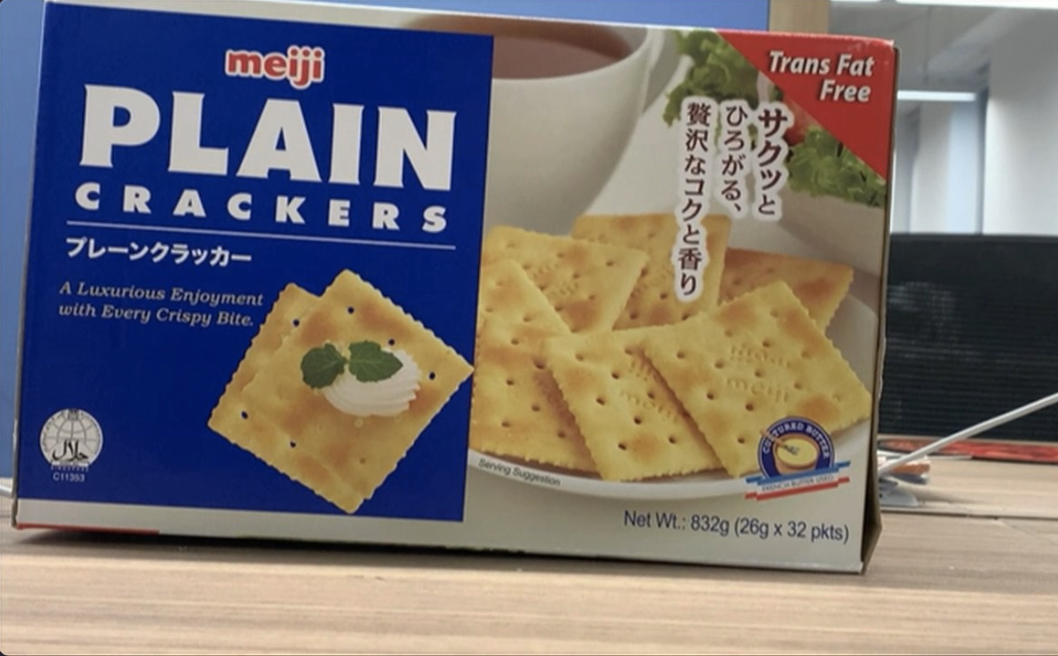crackers_550g: (43, 26, 870, 552)
